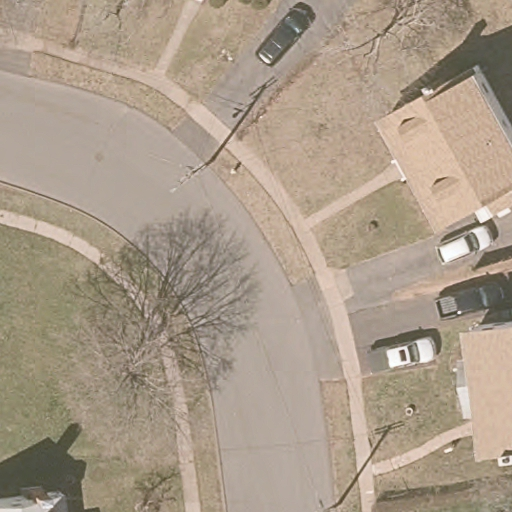DT: (169, 157, 214, 195)
